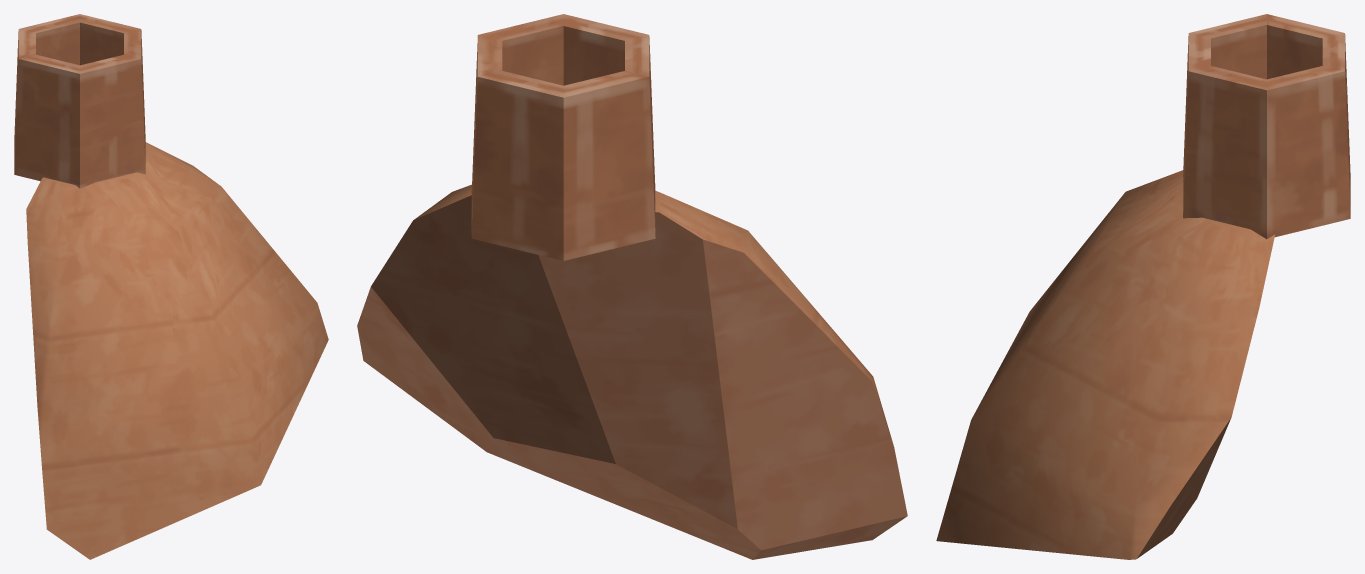
Rendered from kiln_s05.fbx.
3 views of the same model, side by side, from view 1: azimuth 30°, elevation 25°; view 2: azimuth 150°, elevation 25°; view 3: azimuth 270°, elevation 25° (orthographic). The views are drawn at different scales.
Visible parts, largest first — view 1: kiln_s05; view 2: kiln_s05; view 3: kiln_s05.
Part boxes in pixels (x1,y1,x2,y2): kiln_s05: [14, 14, 328, 559]; kiln_s05: [357, 14, 907, 559]; kiln_s05: [936, 14, 1350, 559].
Size of the model in its own units: 3.81 by 4.42 by 3.21.
